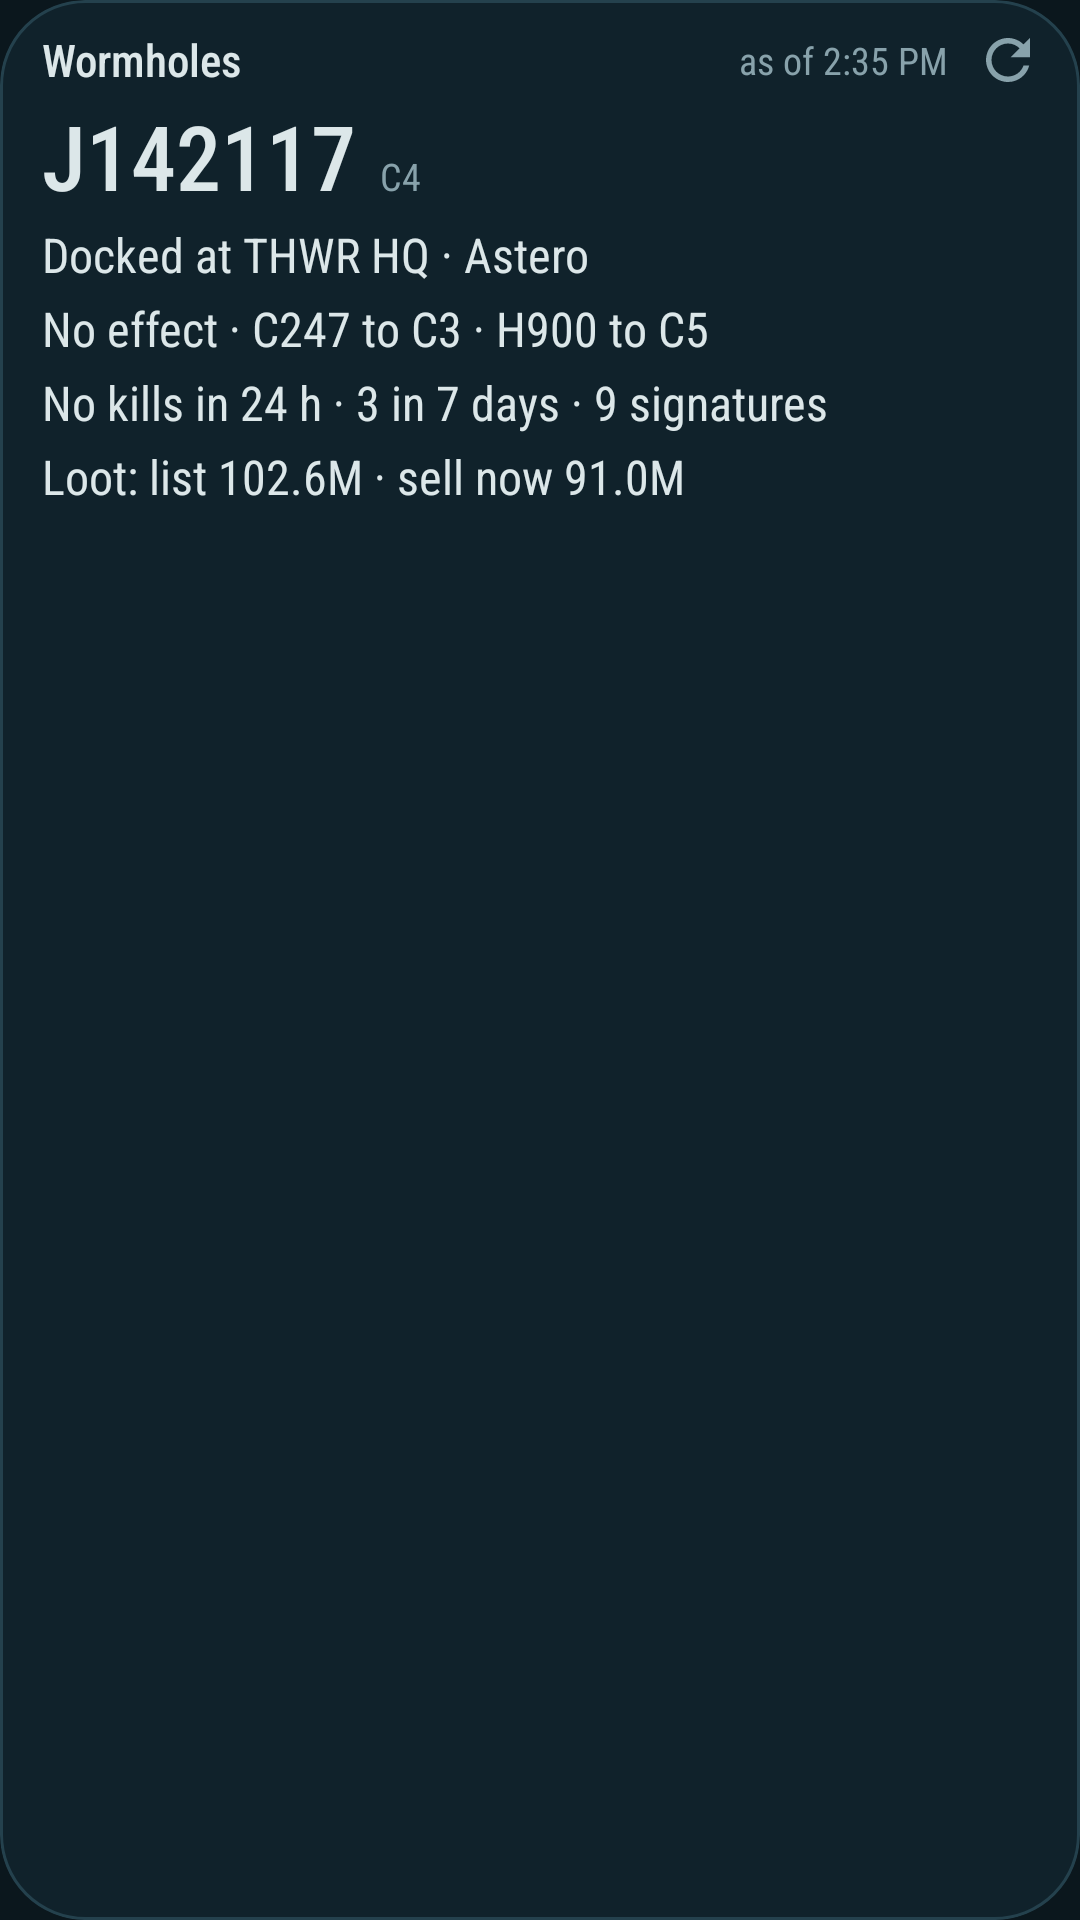

Icon click points for this 1080px×1920px phone screenshot, format [x,y]:
Refresh: [1008,60]
